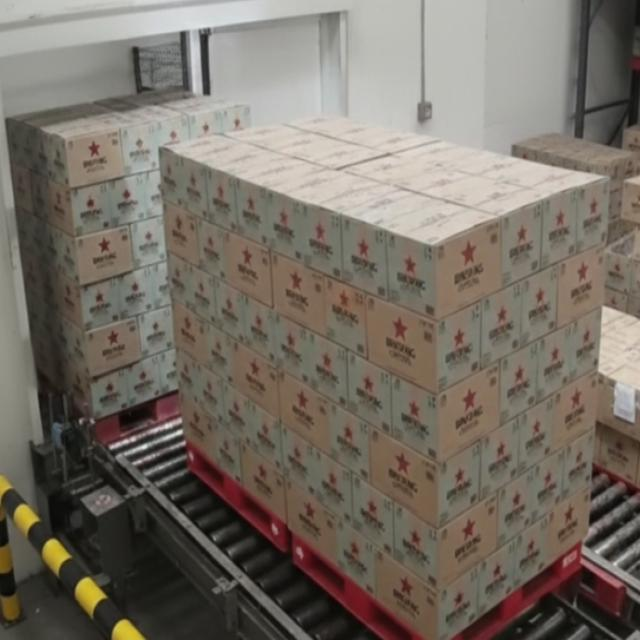pallet: (292, 118, 602, 640), (0, 83, 211, 454), (162, 93, 300, 562)
